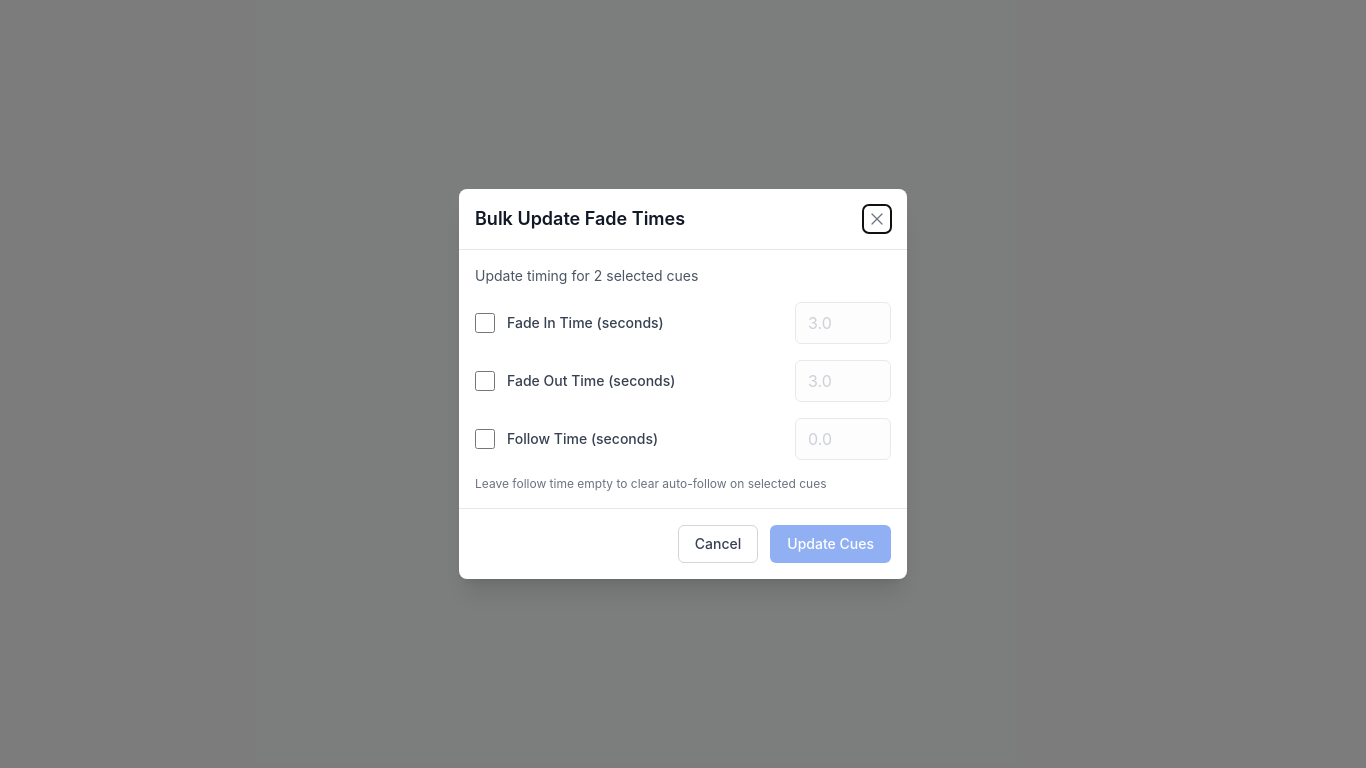
Test: BulkFadeUpdateModal › form validation › shows error for invalid follow time
Click the checkbox labelled "Follow Time (seconds)" at [485, 439], box [475,429,495,449]
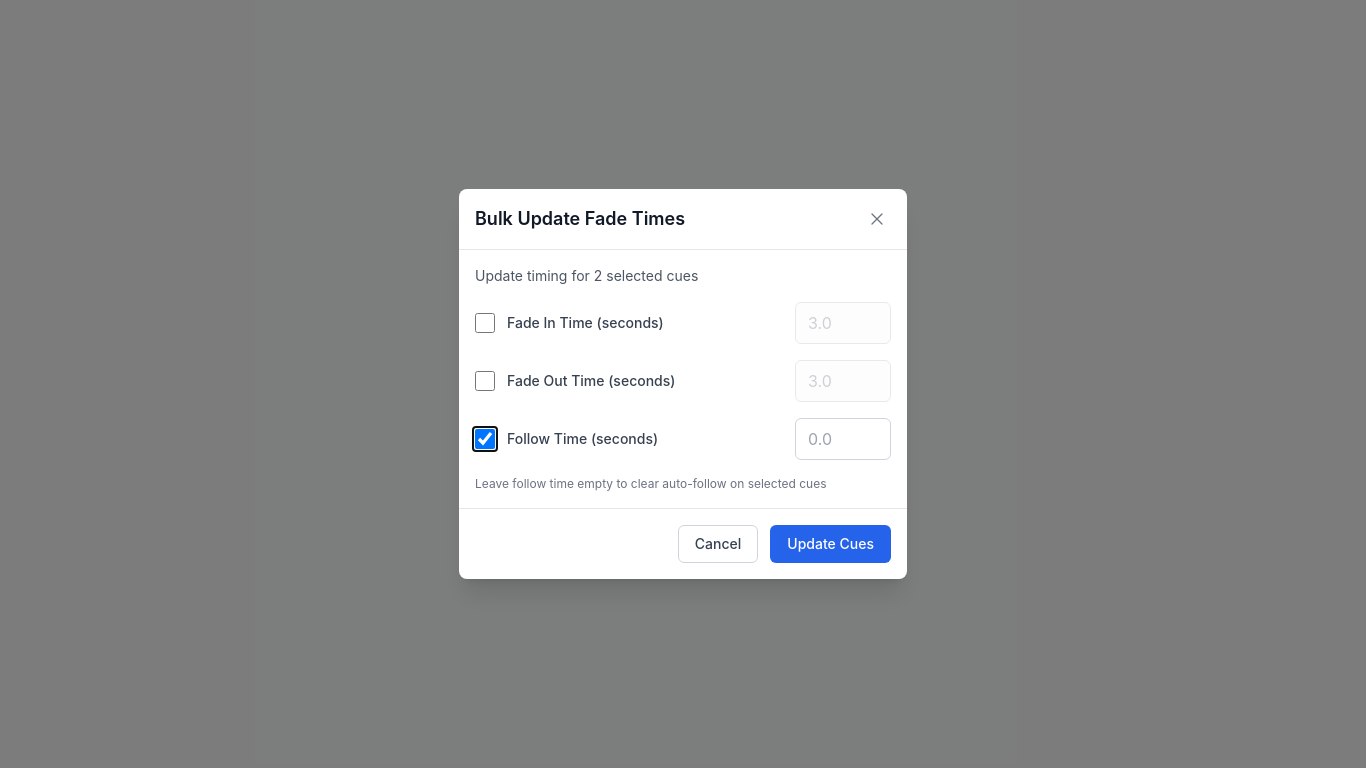
Type "-5" into the number field with placeholder "0.0" at [843, 439], box [795,418,891,460]
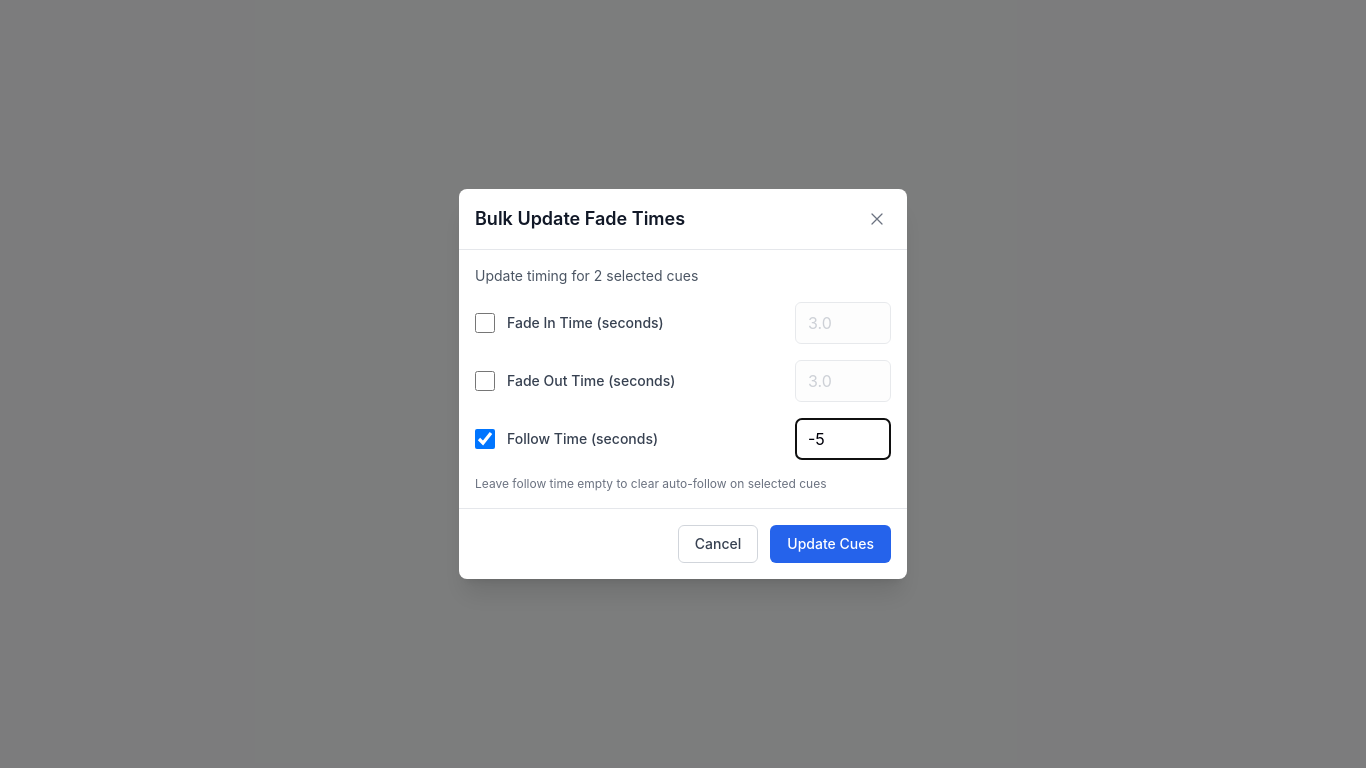
Submit the form with id "bulk-fade-update-form", box [475,266,891,492]
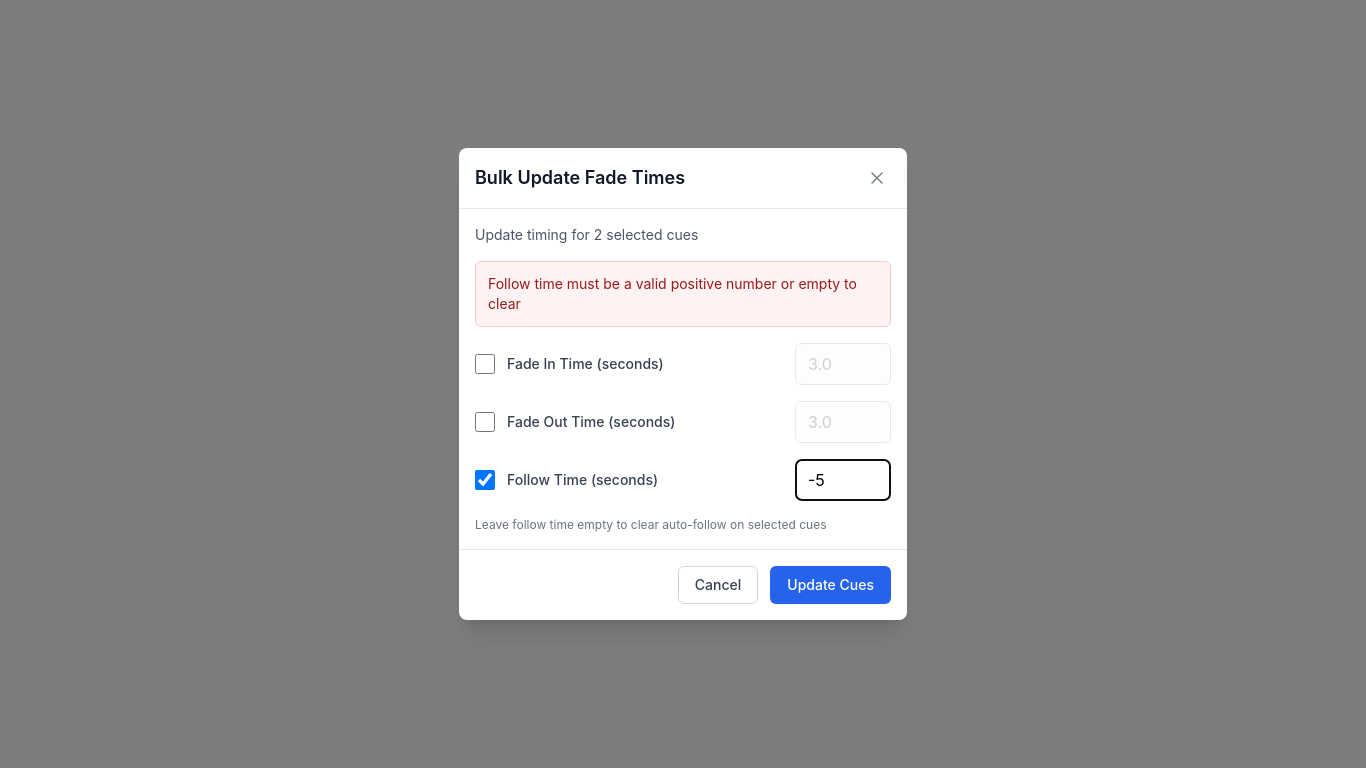
Expected: the text "Follow time must be a valid positive number or empty to clear" is shown, [488,274,878,314]
